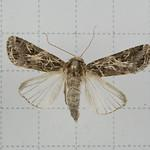Spodoptera litura: (6, 26, 150, 121)
